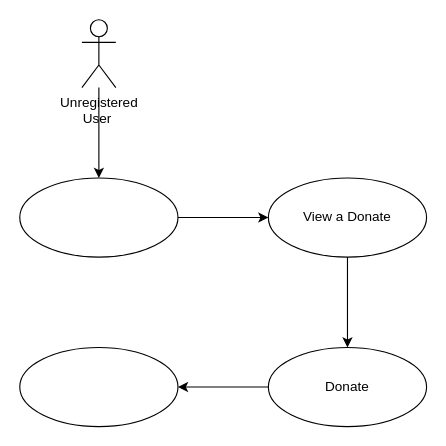
The diagram is 446 pixels wide and 446 high, and some of its shapes have lost their labels. The shapes that lost their labels are listed below. From the top down, each one's centre as x and y in pixels, then its label:
At pixel 98 217: "View all of list Donates".
At pixel 98 386: "Donate bank account".
